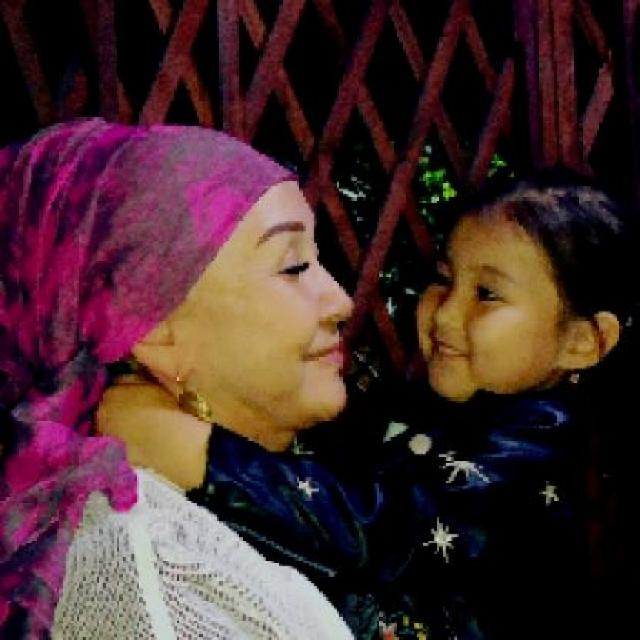child: (97, 162, 637, 638)
